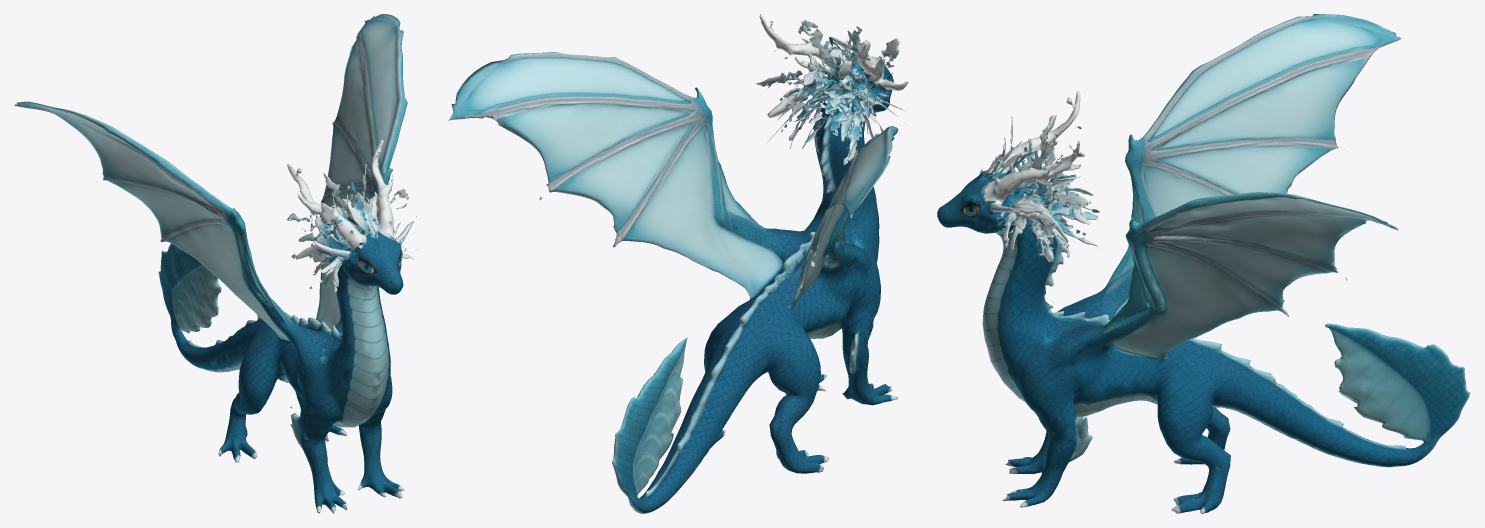
The model's file is water_beyonder.glb.
3 views of the same model, side by side, from view 1: azimuth 30°, elevation 25°; view 2: azimuth 150°, elevation 25°; view 3: azimuth 270°, elevation 25° (orthographic). The views are drawn at different scales.
Bounding box in the file's own units: 1.72 × 1.57 × 2.
Materials: 1 (1 with a texture image).
